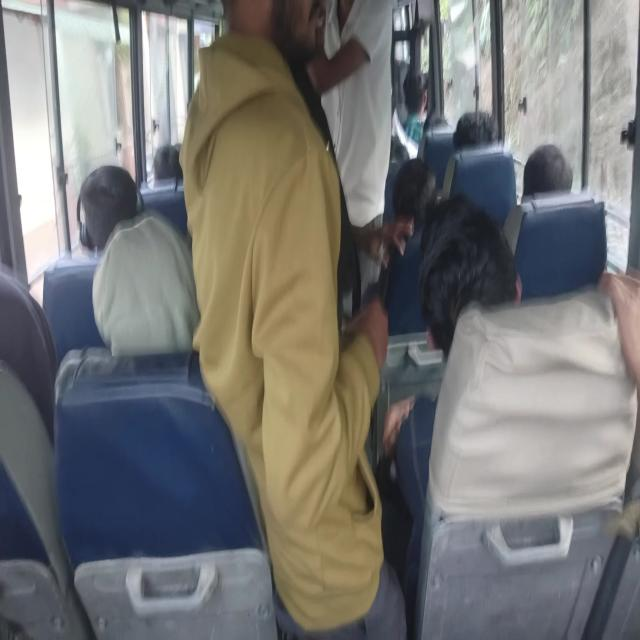person: (178, 0, 409, 638), (416, 193, 639, 523), (382, 192, 523, 622), (305, 0, 394, 324), (76, 164, 200, 357), (418, 192, 523, 358), (76, 164, 139, 257), (596, 269, 640, 389), (521, 142, 573, 202)
